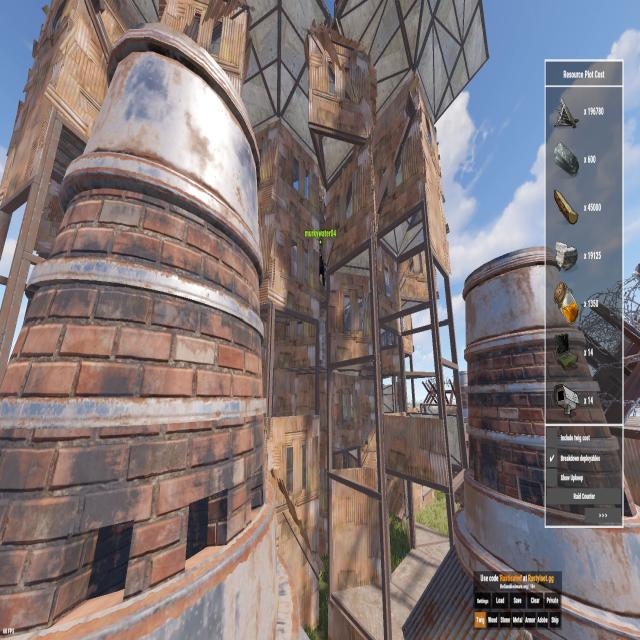Player: (319, 248, 325, 289)
